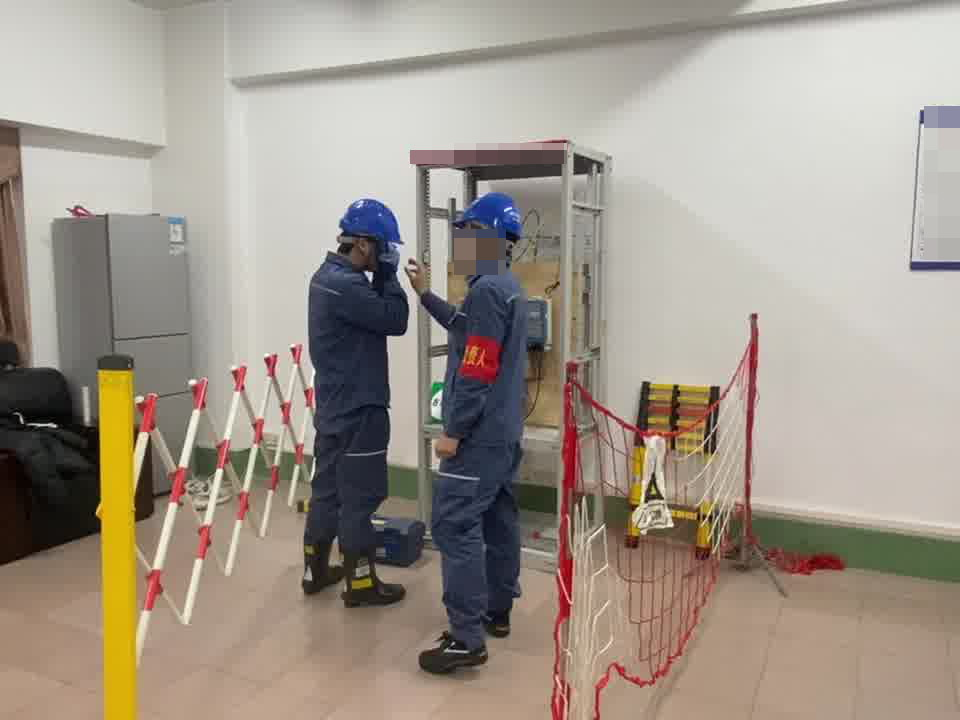badge: (459, 335, 505, 386)
downsuit: (431, 452, 523, 638), (303, 410, 393, 557)
glove: (376, 239, 401, 271)
halt: (453, 192, 525, 262), (336, 196, 404, 268)
hand: (431, 436, 465, 461), (403, 256, 425, 293)
inear: (467, 229, 489, 263), (352, 237, 375, 267)
person: (422, 190, 537, 670), (303, 196, 413, 594)
shoe: (292, 539, 404, 607)
upsuit: (421, 260, 527, 440), (307, 257, 410, 403)
worksign: (426, 380, 447, 423)
